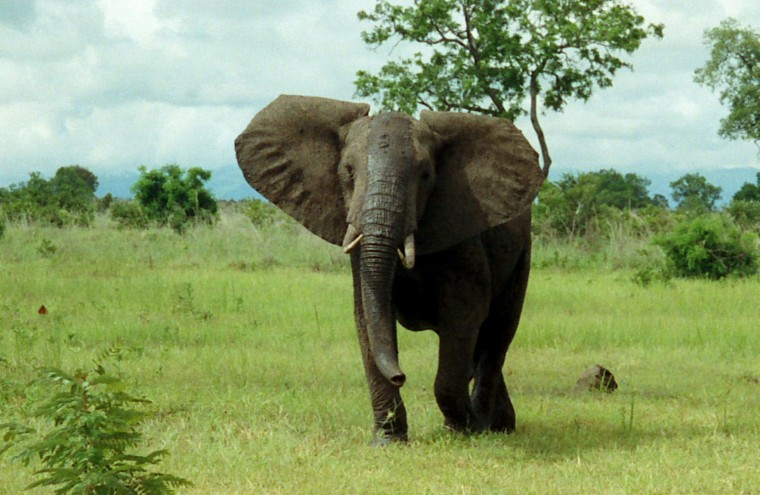africanelephant: (320, 110, 440, 274)
